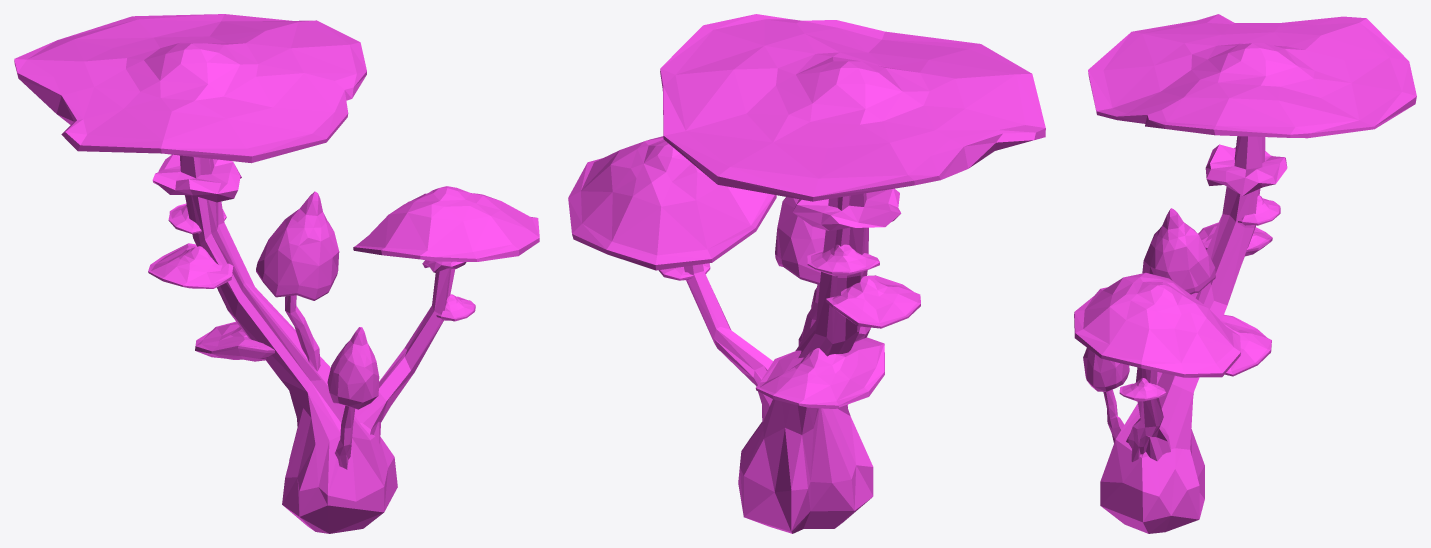
The model's file is SM_Mushroom_Slim_Giant_C_Fantasy.fbx.
3 renders of one model, left to right at view 1: azimuth 30°, elevation 25°; view 2: azimuth 150°, elevation 25°; view 3: azimuth 270°, elevation 25°, orthographic. The views are drawn at different scales.
Visible parts, largest first — view 1: SM_Mushroom_Slim_Giant_C_Fantasy; view 2: SM_Mushroom_Slim_Giant_C_Fantasy; view 3: SM_Mushroom_Slim_Giant_C_Fantasy.
Boxes of the visible parts, x1,y1,x2,y2 form: SM_Mushroom_Slim_Giant_C_Fantasy: (14, 14, 539, 533); SM_Mushroom_Slim_Giant_C_Fantasy: (568, 14, 1045, 533); SM_Mushroom_Slim_Giant_C_Fantasy: (1074, 14, 1416, 533).
Bounding box in the file's own units: 13.51 × 13.62 × 9.83.
